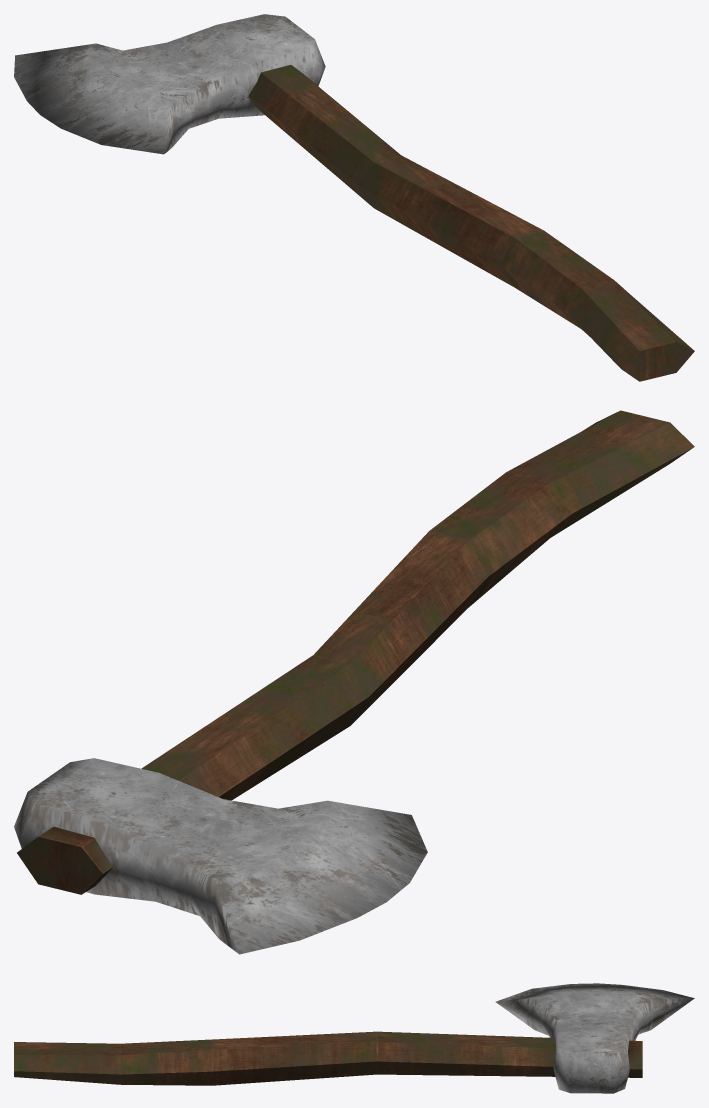
3 views of the same model, one above another, from view 1: azimuth 30°, elevation 25°; view 2: azimuth 150°, elevation 25°; view 3: azimuth 270°, elevation 25° (orthographic). The views are drawn at different scales.
Visible parts, largest first — view 1: axe_5; view 2: axe_5; view 3: axe_5.
Boxes of the visible parts, bbox=[...] form: axe_5: bbox=[14, 14, 694, 381]; axe_5: bbox=[14, 410, 694, 954]; axe_5: bbox=[14, 983, 694, 1093].
Size of the model in its own units: 33.7 by 6.74 by 104.
1 material, 1 textured.
